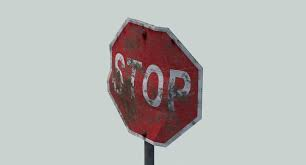Stop: (99, 10, 210, 148)
